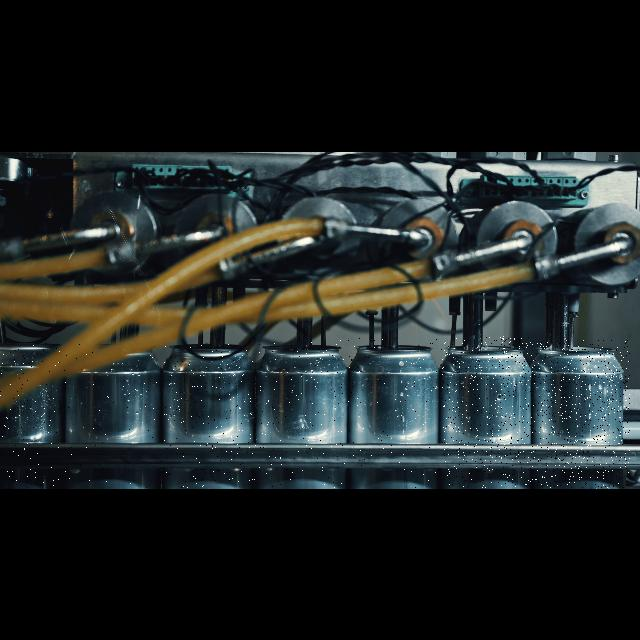empty: (530, 340, 630, 488), (258, 340, 356, 488), (435, 336, 529, 488), (348, 336, 442, 488), (64, 344, 162, 488), (164, 344, 256, 488), (0, 342, 60, 488)
